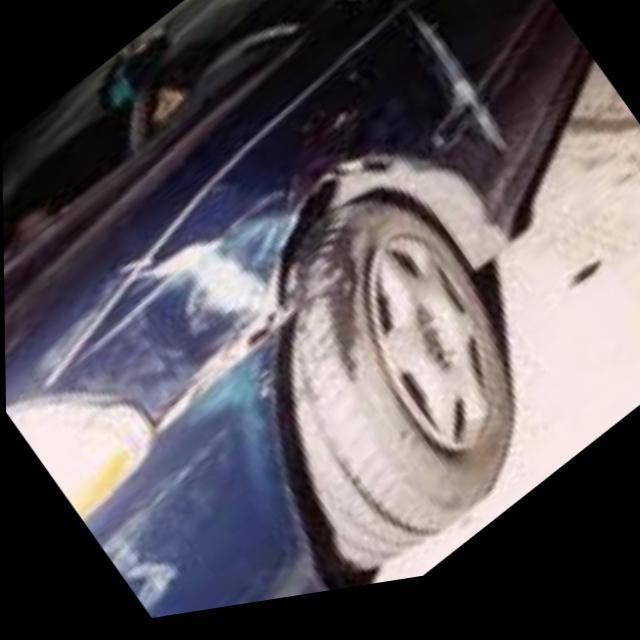dent: (51, 201, 298, 426)
rub: (85, 438, 219, 622)
scratch: (406, 26, 515, 172)
